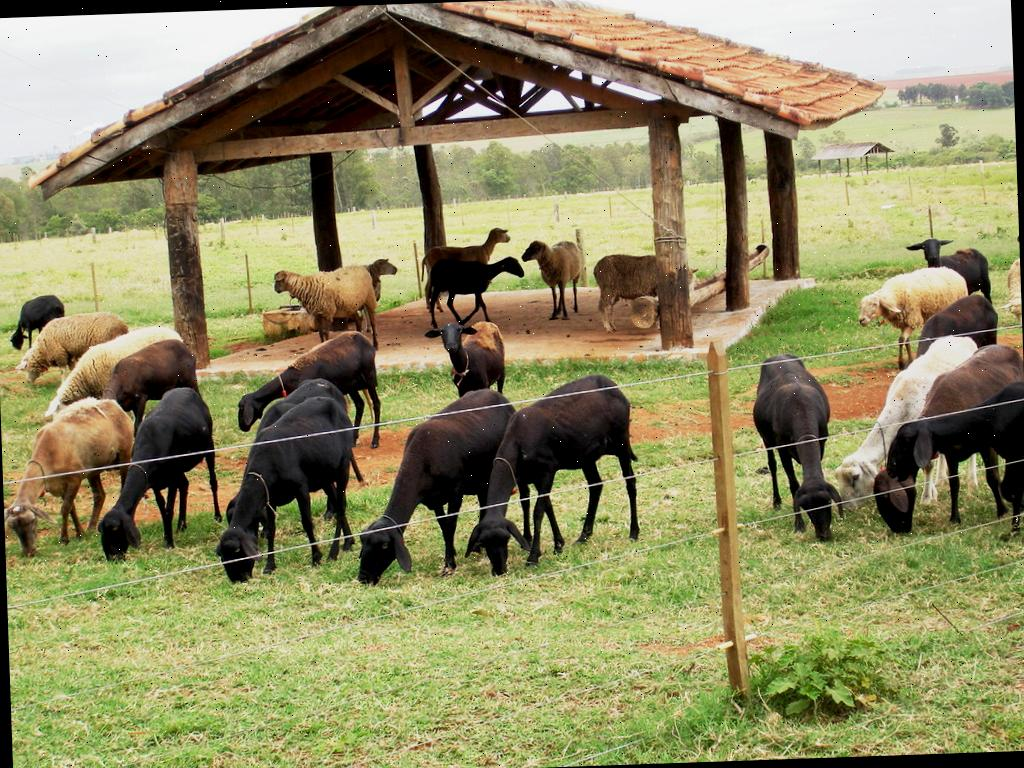Sheep: (40, 326, 184, 419), (855, 264, 975, 366), (270, 266, 374, 351), (588, 250, 697, 330), (12, 309, 130, 380), (520, 236, 584, 318), (363, 257, 399, 330), (996, 252, 1022, 326), (1009, 260, 1021, 324)
